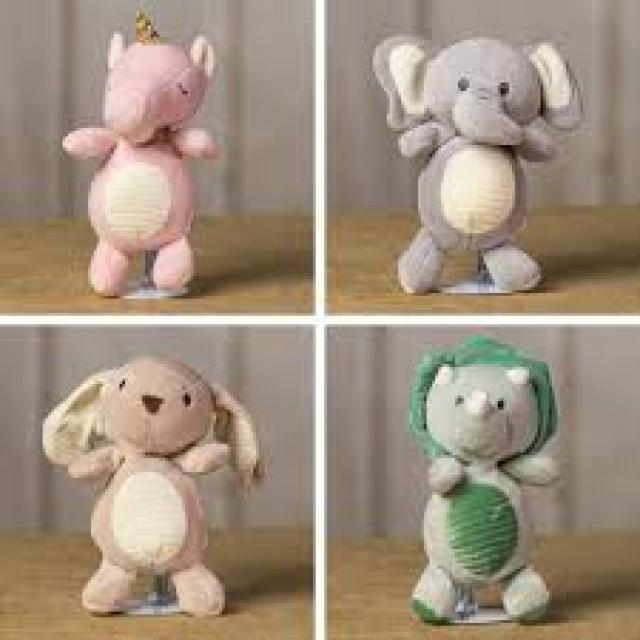soft-toy: (42, 356, 259, 614), (375, 35, 582, 292), (411, 336, 564, 622), (62, 21, 220, 296)
